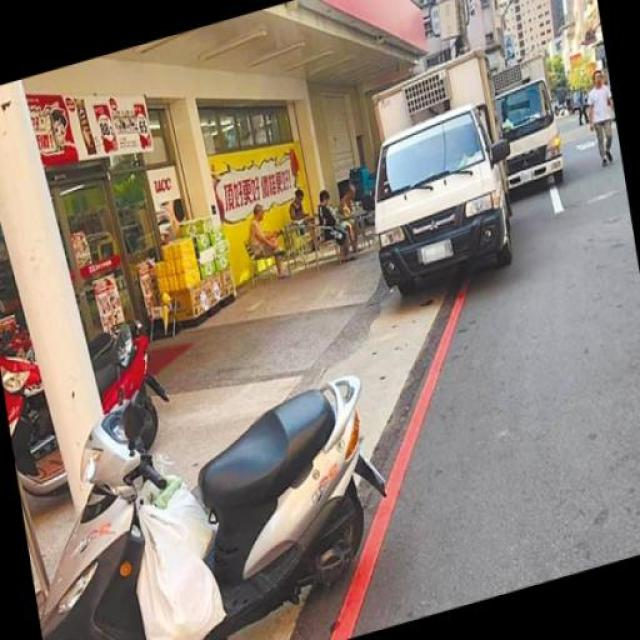Legalparking: (19, 346, 378, 640), (364, 81, 552, 309)
illegalparking: (0, 312, 182, 512)
